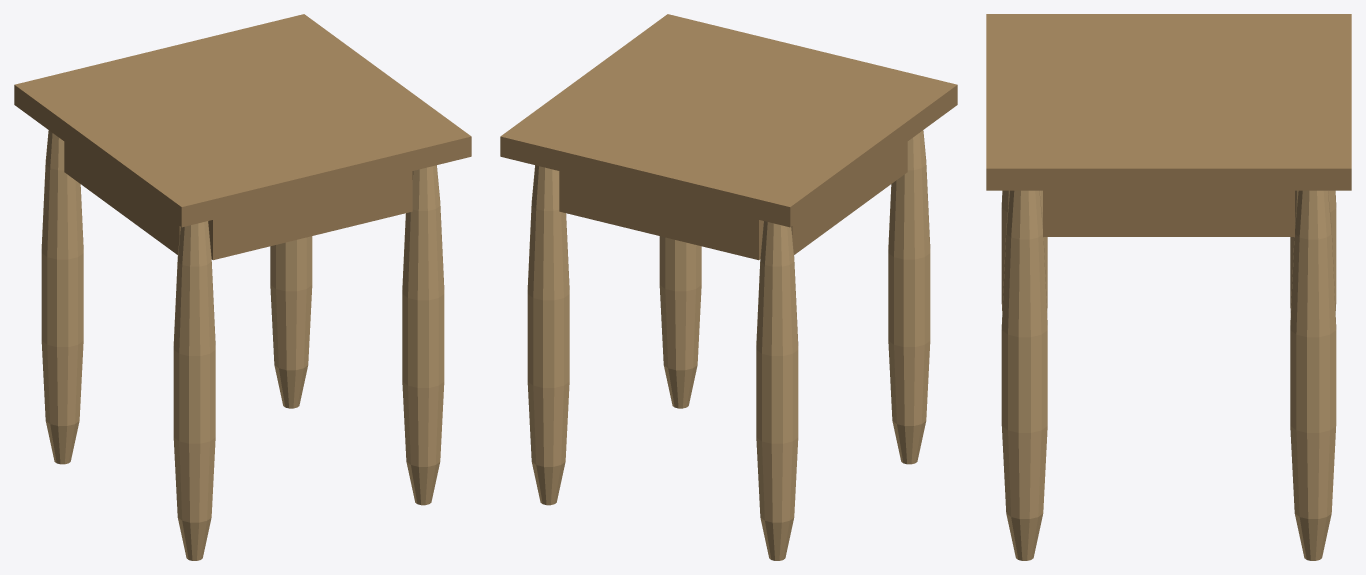
File: SAB-SID-std.glb
3 renders of one model, left to right at view 1: azimuth 30°, elevation 25°; view 2: azimuth 150°, elevation 25°; view 3: azimuth 270°, elevation 25°, orthographic. The views are drawn at different scales.
Parts seen in each view (by area): view 1: top:pbr, leg-fl:pbr, leg-fr:pbr, leg-bl:pbr, apron-f:pbr, leg-br:pbr, apron-l:pbr; view 2: top:pbr, leg-bl:pbr, leg-br:pbr, leg-fl:pbr, apron-b:pbr, leg-fr:pbr, apron-l:pbr; view 3: top:pbr, leg-fr:pbr, leg-br:pbr, apron-r:pbr, leg-fl:pbr, leg-bl:pbr.
Part boxes in pixels (x1,y1,x2,y2): top:pbr: (14, 14, 471, 227); leg-fl:pbr: (173, 221, 215, 560); leg-fr:pbr: (402, 165, 444, 505); leg-bl:pbr: (41, 130, 83, 464); apron-f:pbr: (208, 171, 412, 260); leg-br:pbr: (270, 236, 312, 408); apron-l:pbr: (64, 142, 180, 254); top:pbr: (500, 14, 957, 227); leg-bl:pbr: (756, 221, 798, 560); leg-br:pbr: (527, 165, 569, 505); leg-fl:pbr: (888, 130, 930, 464); apron-b:pbr: (559, 171, 763, 260); leg-fr:pbr: (659, 236, 701, 408); apron-l:pbr: (791, 142, 907, 254); top:pbr: (986, 14, 1351, 190); leg-fr:pbr: (1001, 190, 1047, 560); leg-br:pbr: (1290, 190, 1336, 560); apron-r:pbr: (1043, 190, 1294, 236); leg-fl:pbr: (1001, 190, 1047, 312); leg-bl:pbr: (1290, 190, 1336, 312).
Bounding box in the file's own units: 0.45 × 0.55 × 0.45.
